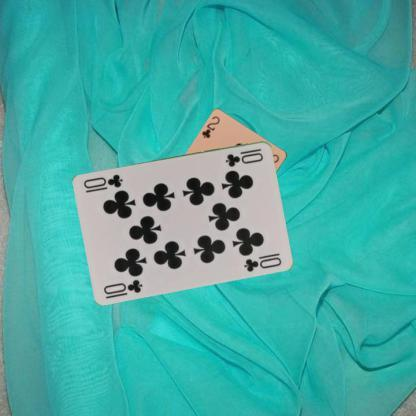10c: (223, 146, 265, 168), (101, 276, 144, 295)
2c: (200, 114, 222, 140)
